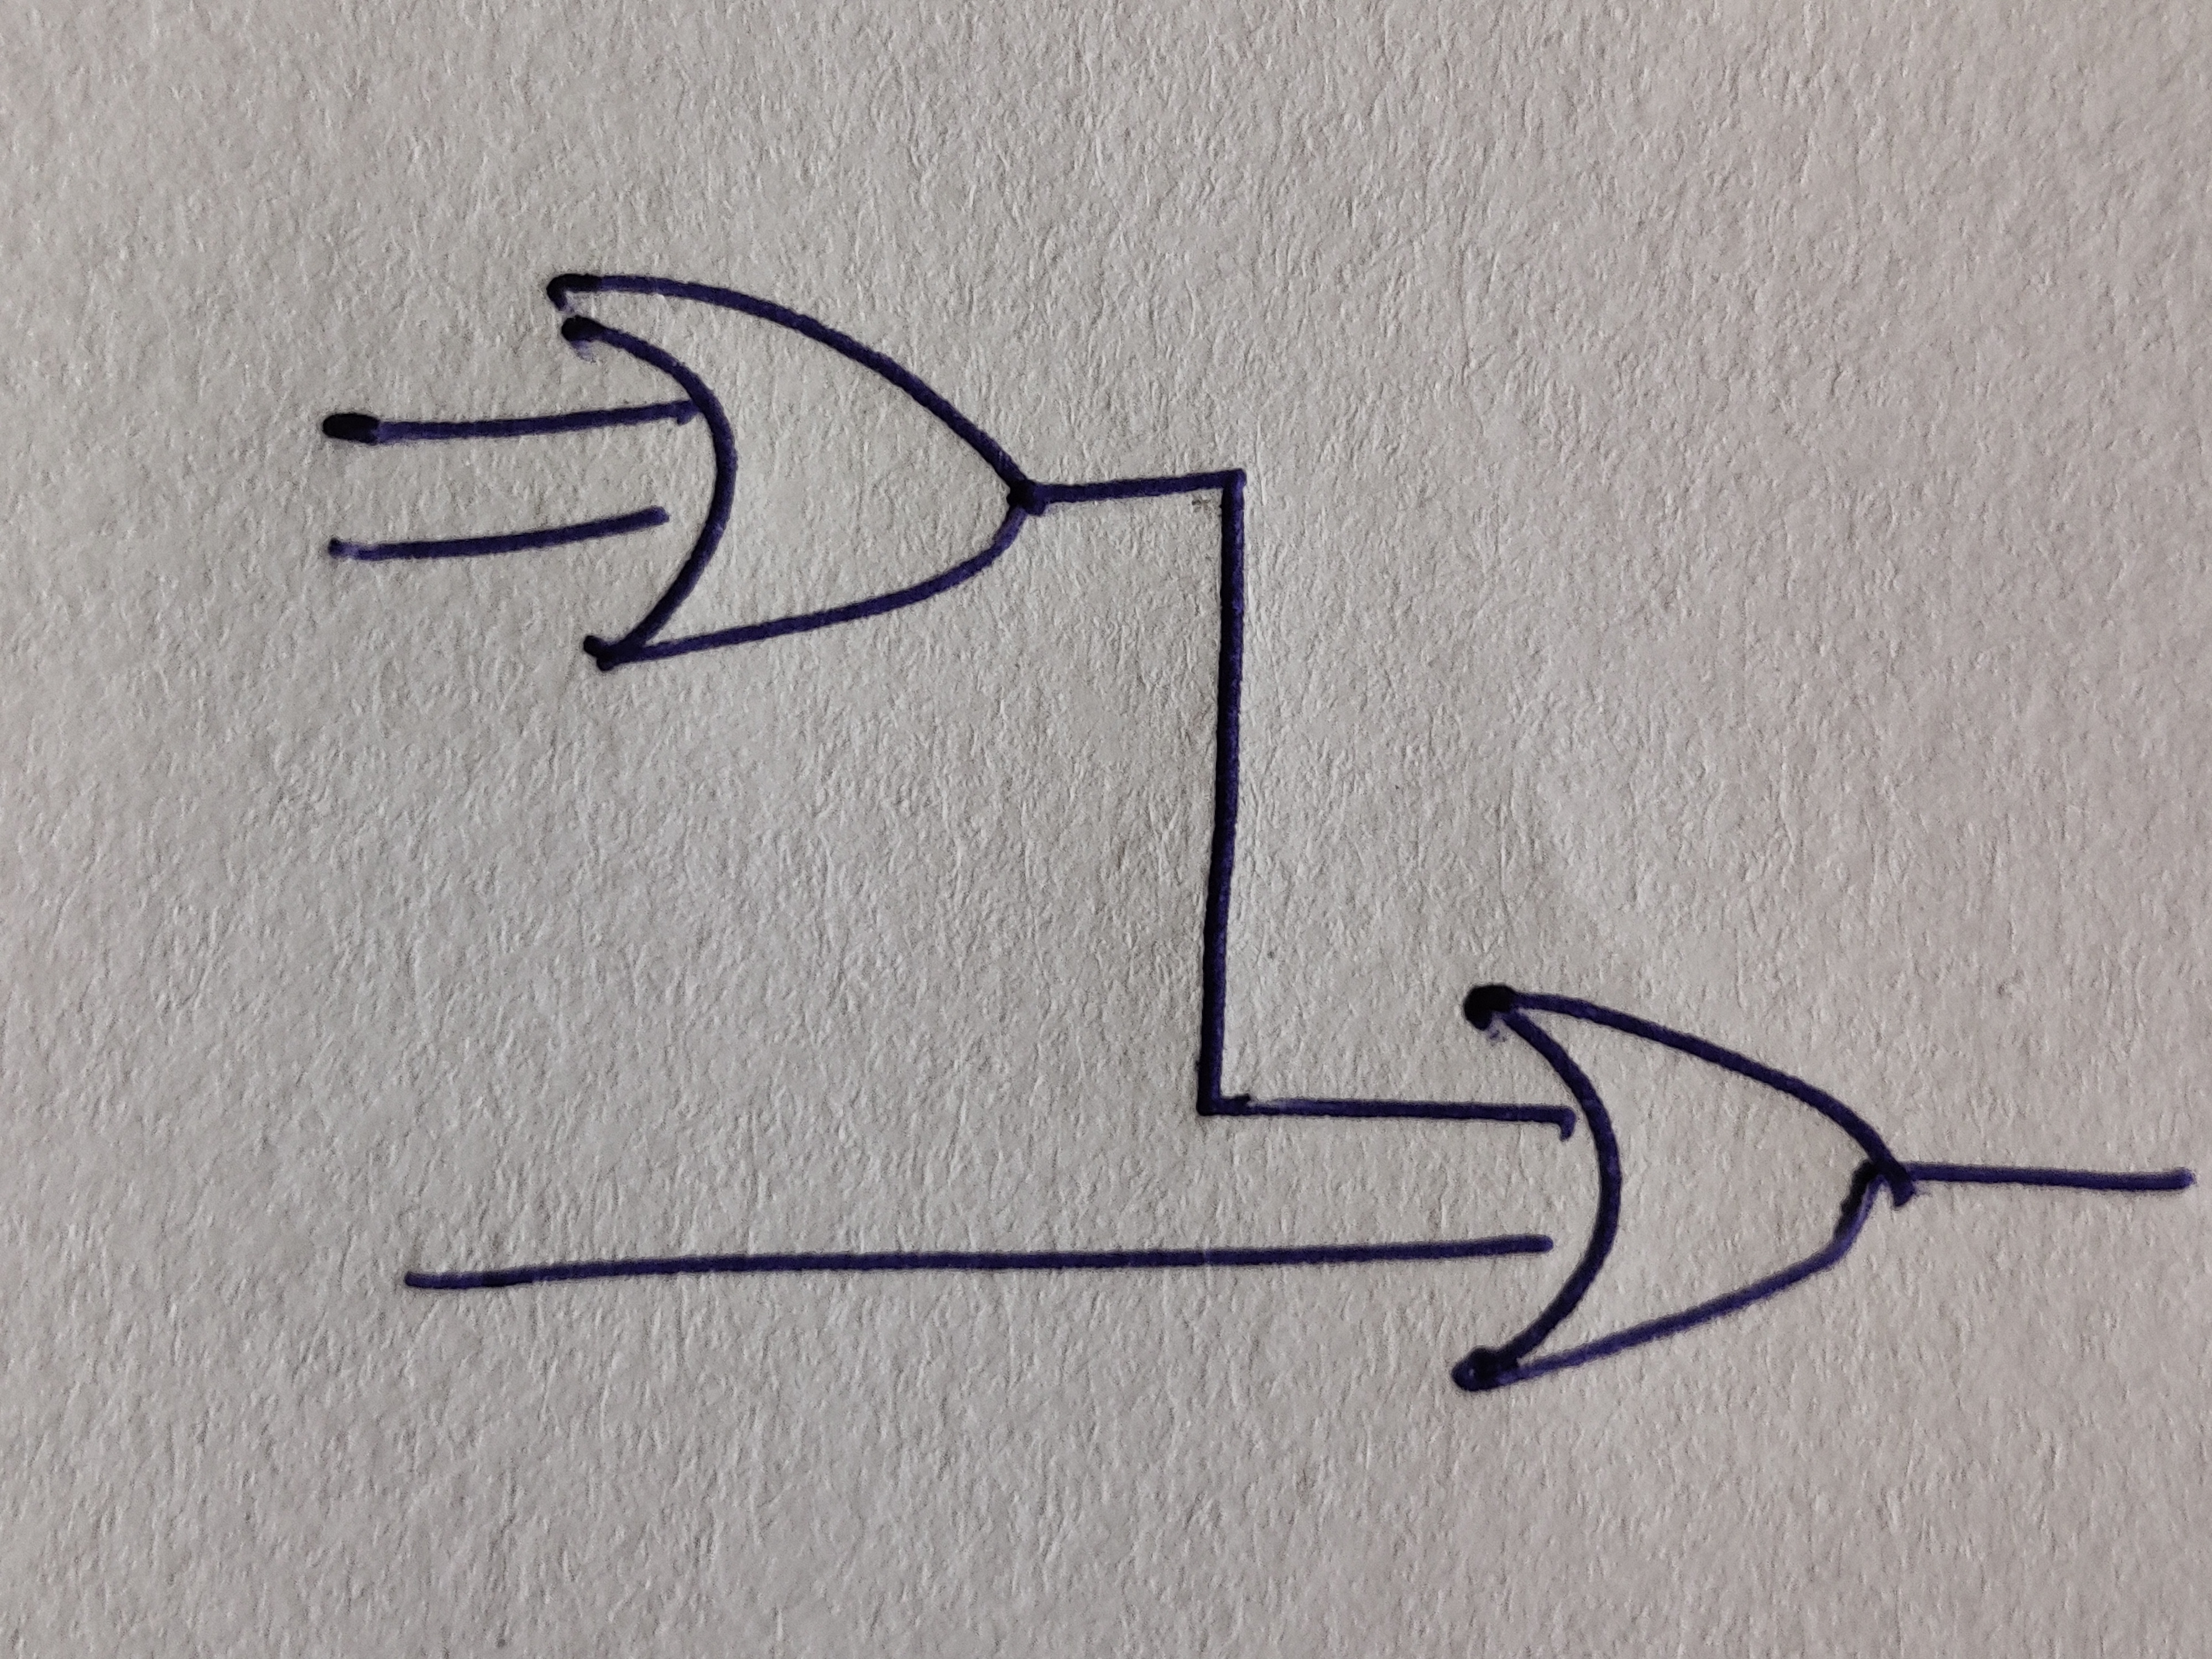or: (545, 272, 1038, 673), (1451, 985, 1918, 1392)
